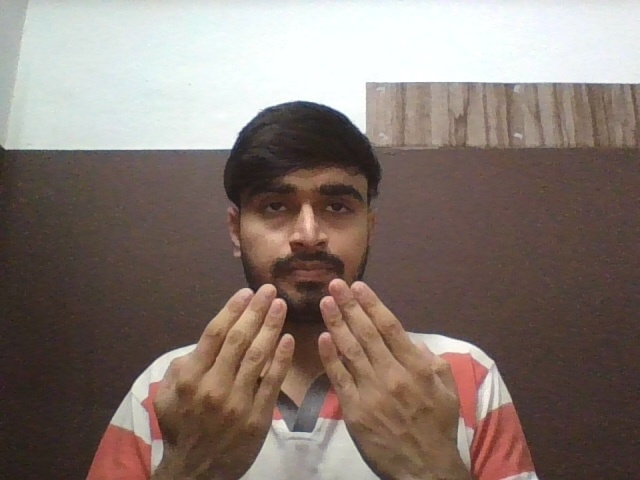Thankyou: (151, 276, 461, 472)
